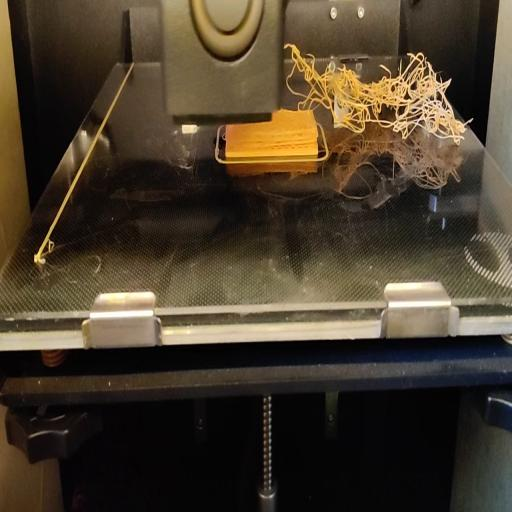spaghetti: (284, 40, 472, 141)
